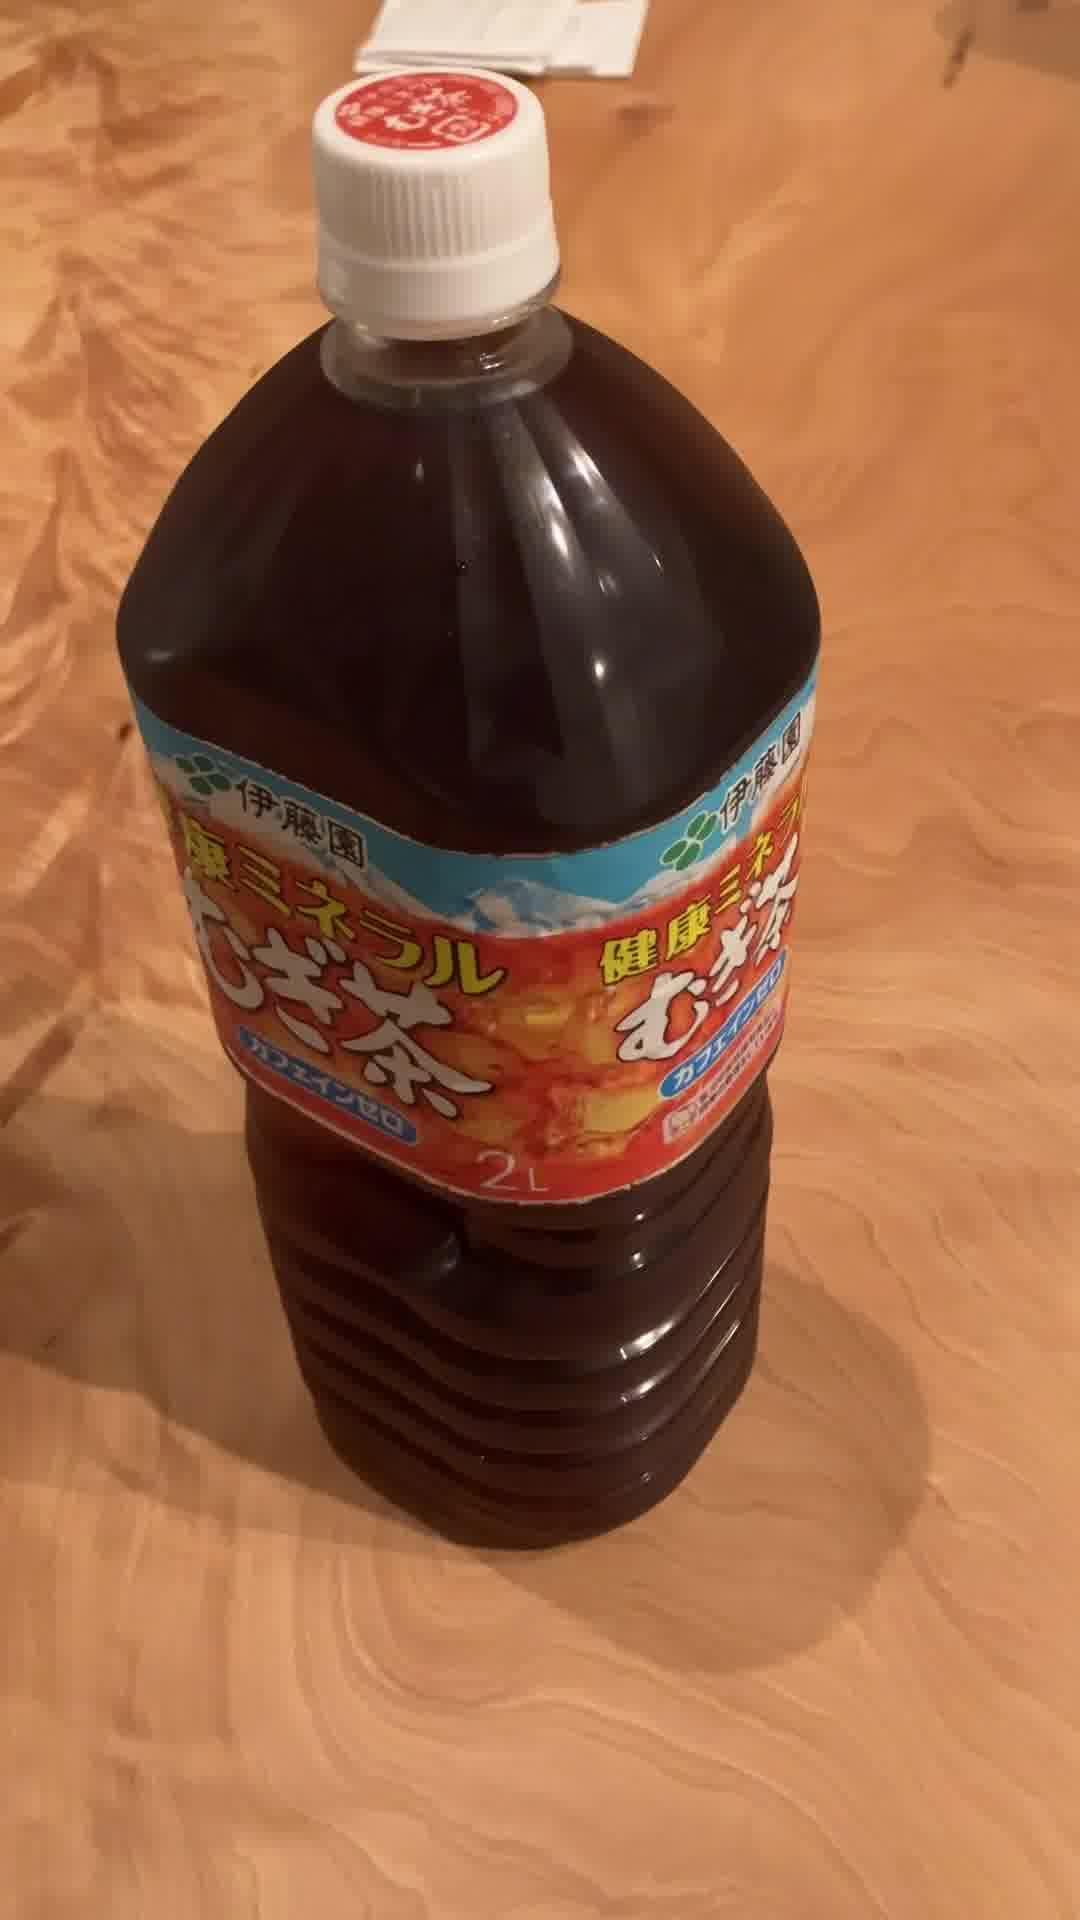BIODEGRADABLE: (110, 60, 824, 1554)
